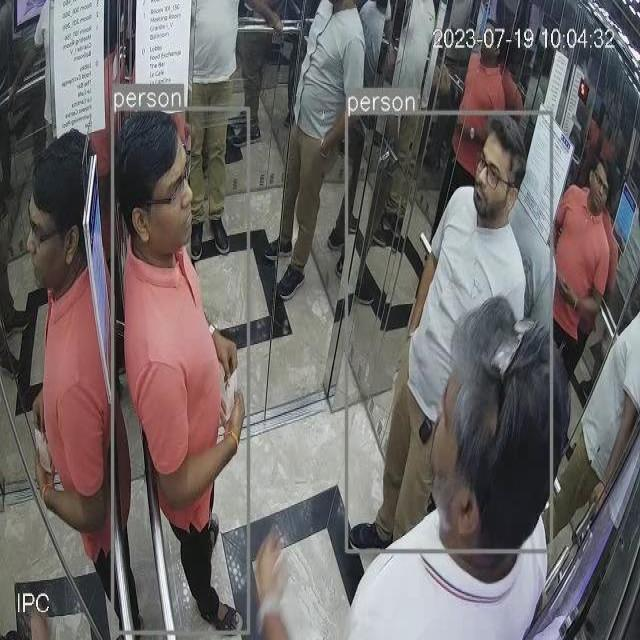person: (347, 112, 549, 549), (344, 293, 567, 636), (118, 108, 248, 633), (265, 0, 363, 315)
